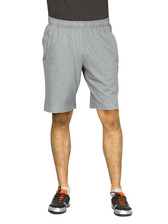clothoes: (34, 15, 127, 117)
shoes: (108, 188, 141, 222), (46, 186, 81, 217)
